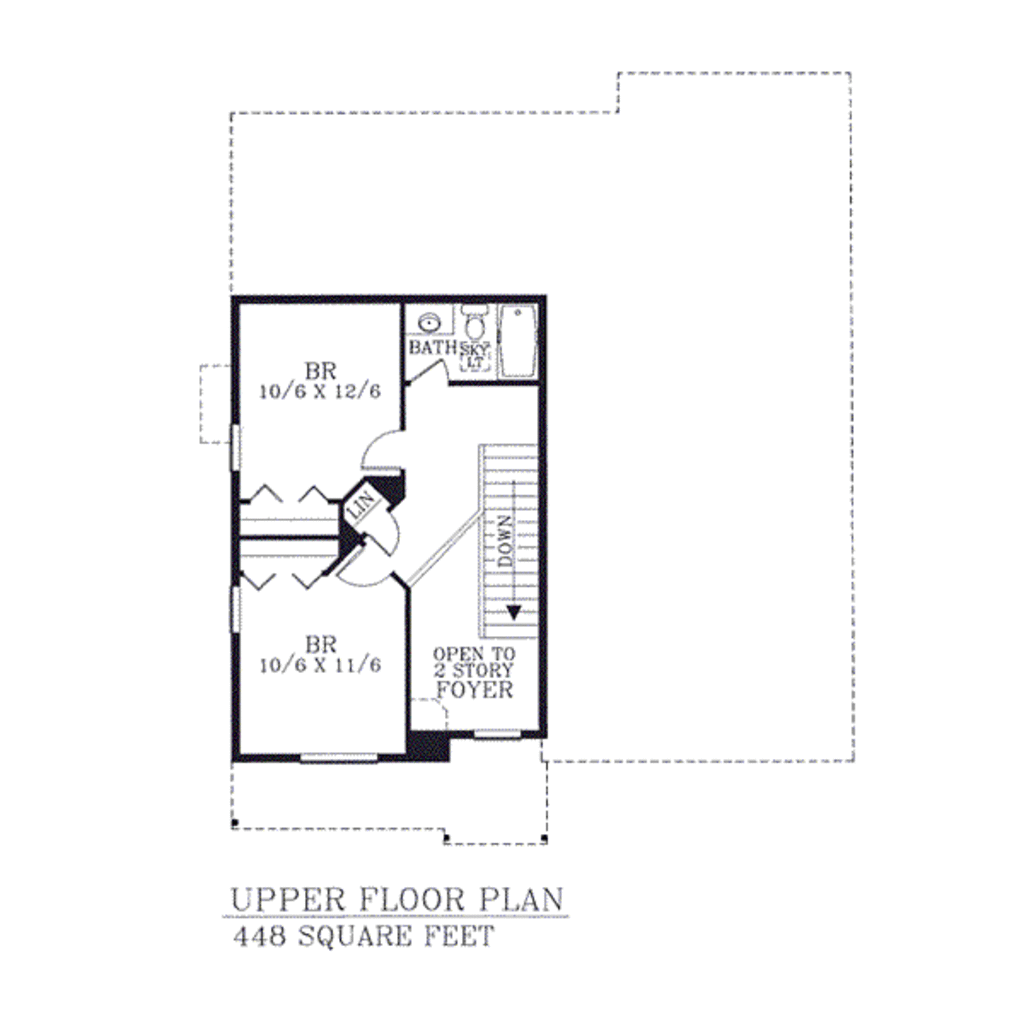door: (345, 420, 410, 473), (332, 539, 396, 589), (401, 351, 461, 392)
large_sink: (455, 303, 493, 352)
small_sink: (405, 300, 453, 338)
stairs: (459, 428, 561, 658)
tub: (494, 300, 555, 382)
window: (298, 749, 377, 766), (226, 424, 244, 476), (226, 585, 244, 636), (471, 730, 520, 736)
